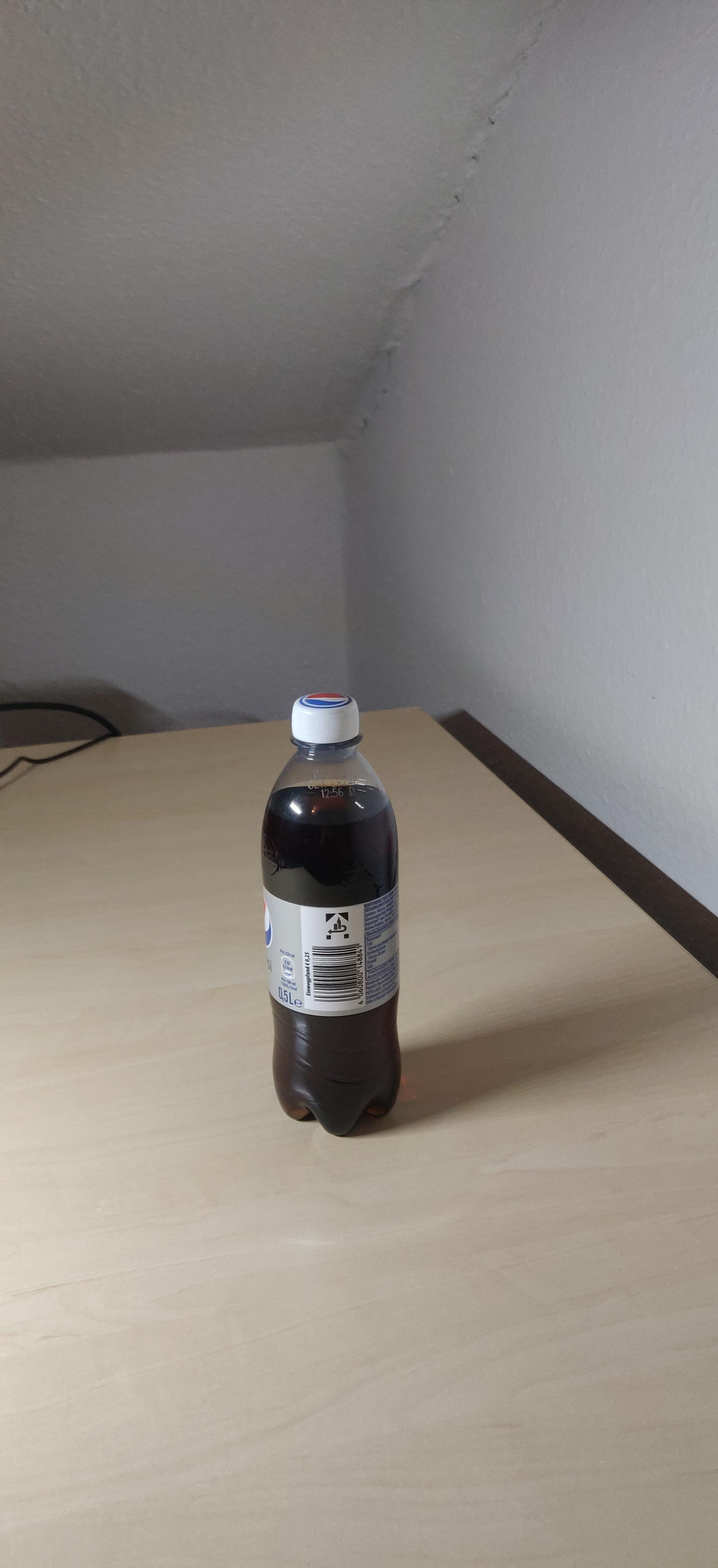bottle-plastic: (261, 691, 401, 1137)
